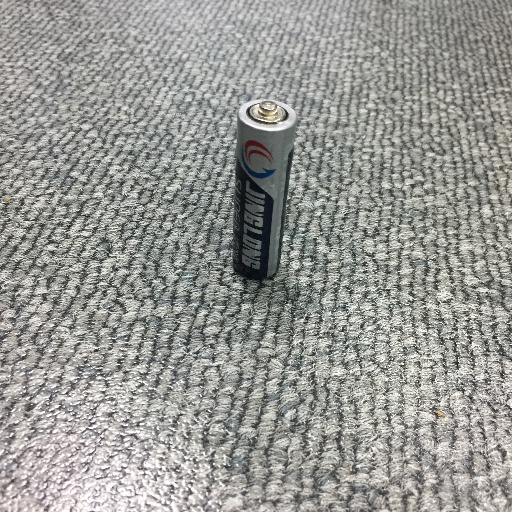Battery_0: (218, 92, 304, 295)
